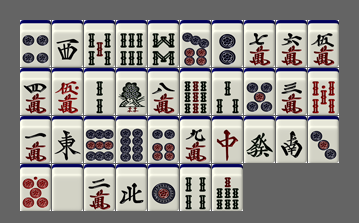0m: (52, 68, 83, 115)
0p: (20, 164, 51, 211)
0s: (308, 68, 339, 115)
1m: (20, 116, 51, 163)
1p: (148, 164, 179, 211)
1s: (116, 68, 147, 115)
1z: (52, 116, 83, 163)
2m: (84, 164, 115, 211)
2p: (212, 20, 243, 67)
2s: (84, 68, 115, 115)
2z: (276, 116, 307, 163)
3m: (276, 68, 307, 115)
3p: (308, 116, 339, 163)
3s: (212, 68, 243, 115)
3z: (52, 20, 83, 67)
4m: (20, 68, 51, 115)
4p: (20, 20, 51, 67)
4s: (180, 164, 211, 211)
4z: (116, 164, 147, 211)
5m: (308, 20, 339, 67)
5p: (244, 68, 275, 115)
5s: (84, 20, 115, 67)
5z: (52, 164, 83, 211)
6m: (276, 20, 307, 67)
6p: (148, 116, 179, 163)
6s: (116, 20, 147, 67)
6z: (244, 116, 275, 163)
7m: (244, 20, 275, 67)
7p: (180, 20, 211, 67)
7s: (212, 164, 243, 211)
7z: (212, 116, 243, 163)
8m: (148, 68, 179, 115)
8p: (116, 116, 147, 163)
8s: (148, 20, 179, 67)
9m: (180, 116, 211, 163)
9p: (84, 116, 115, 163)
9s: (180, 68, 211, 115)
